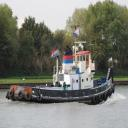tugboat: (7, 41, 117, 108)
